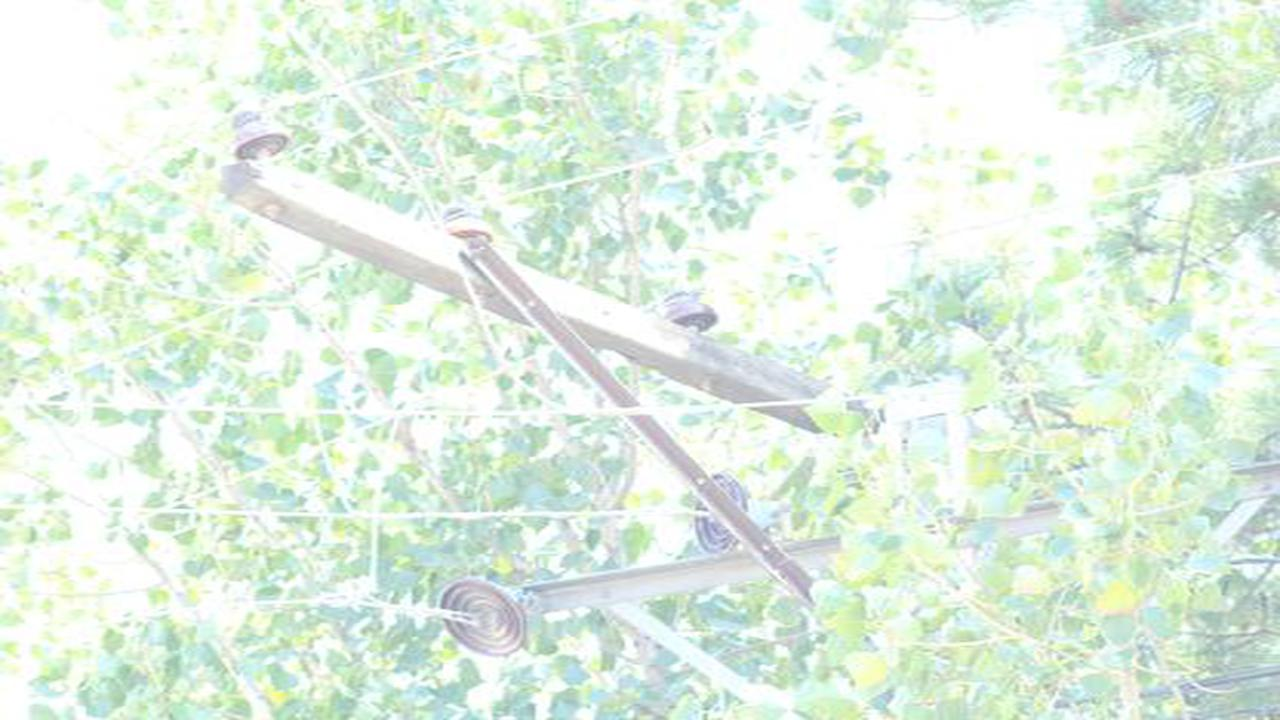insulator_disc: (436, 577, 530, 662), (685, 465, 753, 559)
insulator_pin: (225, 104, 296, 167), (659, 282, 721, 339), (436, 196, 496, 248)
